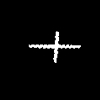single_crochet: (29, 32, 80, 62)
